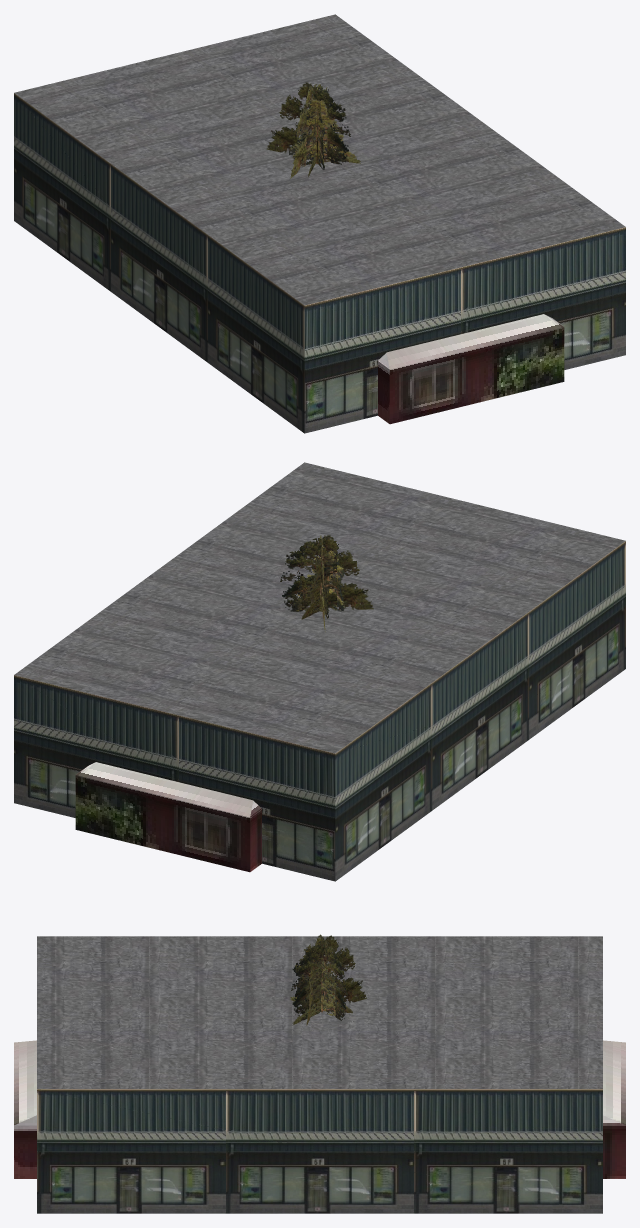
The model's file is laundry_props.glb.
3 views of the same model, one above another, from view 1: azimuth 30°, elevation 25°; view 2: azimuth 150°, elevation 25°; view 3: azimuth 270°, elevation 25° (orthographic). The views are drawn at different scales.
Visible parts, largest first — view 1: lp_shops_e, lp_shops_c, lp_tree_a, lp_tree_b; view 2: lp_shops_e, lp_shops_c, lp_tree_a, lp_tree_b; view 3: lp_shops_e, lp_shops_c, lp_tree_a, lp_tree_c, lp_tree_b.
Boxes of the visible parts, x1,y1,x2,y2 form: lp_shops_e: (14,14,625,433); lp_shops_c: (378,314,564,424); lp_tree_a: (266,82,350,178); lp_tree_b: (296,99,356,169); lp_shops_e: (14,462,625,881); lp_shops_c: (75,762,261,872); lp_tree_a: (280,535,373,631); lp_tree_b: (297,545,344,619); lp_shops_e: (37,936,602,1213); lp_shops_c: (14,1040,625,1178); lp_tree_a: (291,934,366,1020); lp_tree_c: (290,960,342,1024); lp_tree_b: (292,944,352,1025).
Size of the model in its own units: 22.72 by 14.15 by 38.48.
Materials: 19 (19 with a texture image).
